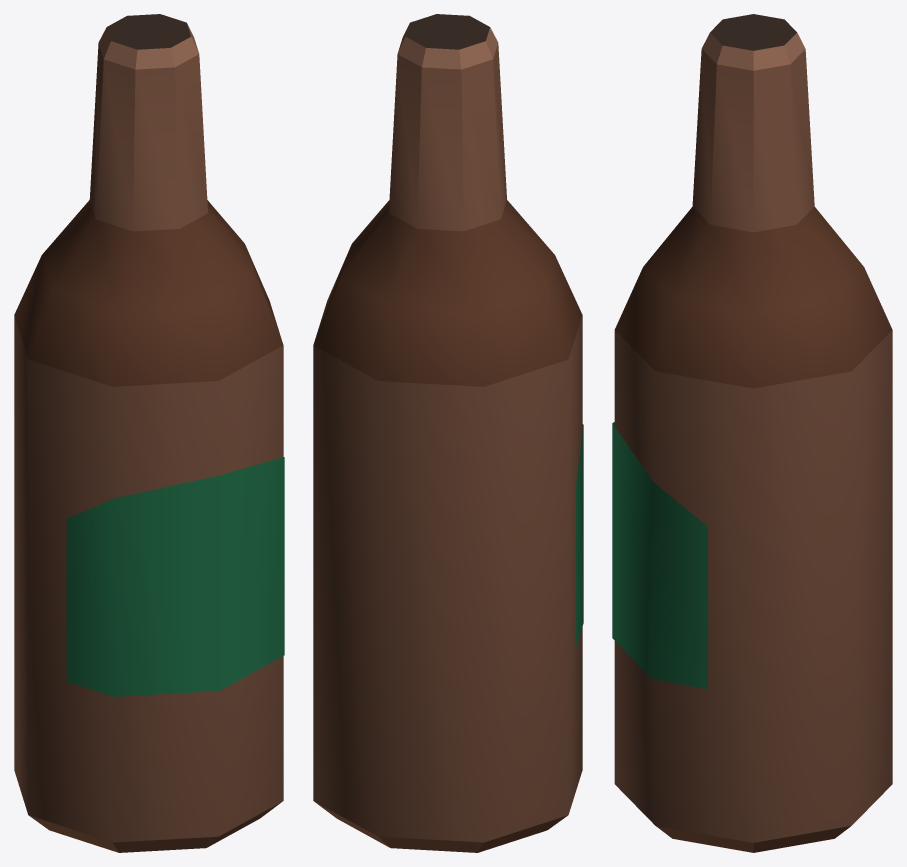
File: clutter_beerbottle.fbx
The picture shows the model from 3 angles, left to right: view 1: azimuth 30°, elevation 25°; view 2: azimuth 150°, elevation 25°; view 3: azimuth 270°, elevation 25°; orthographic projection.
Visible parts, largest first — view 1: Cylinder06; view 2: Cylinder06; view 3: Cylinder06.
Part boxes in pixels (bbox=[...]): Cylinder06: bbox=[14, 14, 284, 852]; Cylinder06: bbox=[313, 14, 583, 852]; Cylinder06: bbox=[612, 14, 892, 852].
Size of the model in its own units: 193 by 195 by 592.
